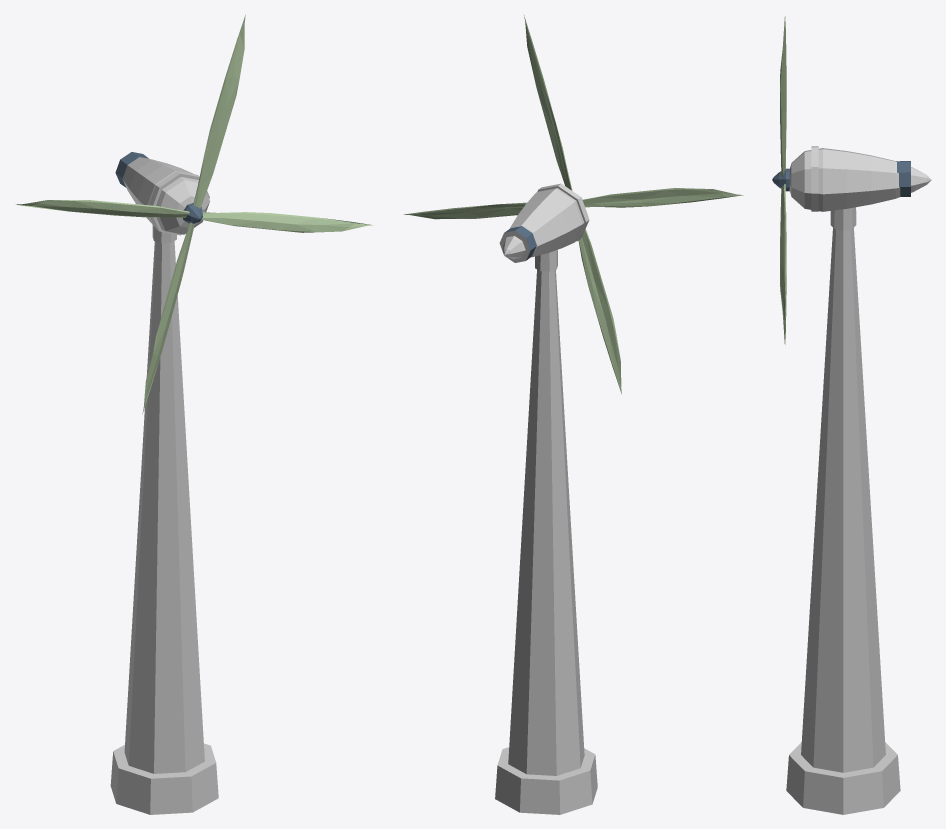
Rendered from Windmill_Low_Poly.fbx.
3 renders of one model, left to right at view 1: azimuth 30°, elevation 25°; view 2: azimuth 150°, elevation 25°; view 3: azimuth 270°, elevation 25°, orthographic. The views are drawn at different scales.
Visible parts, largest first — view 1: Cylinder_2, Blade_8; view 2: Cylinder_2, Blade_8; view 3: Cylinder_2, Blade_8.
Part boxes in pixels (left/top/right/bottom): Cylinder_2: left=110, top=152, right=218, bottom=814; Blade_8: left=15, top=15, right=373, bottom=414; Cylinder_2: left=495, top=183, right=597, bottom=814; Blade_8: left=404, top=15, right=743, bottom=394; Cylinder_2: left=772, top=146, right=931, bottom=814; Blade_8: left=780, top=16, right=786, bottom=344.
Size of the model in its own units: 584 by 1219 by 220.
